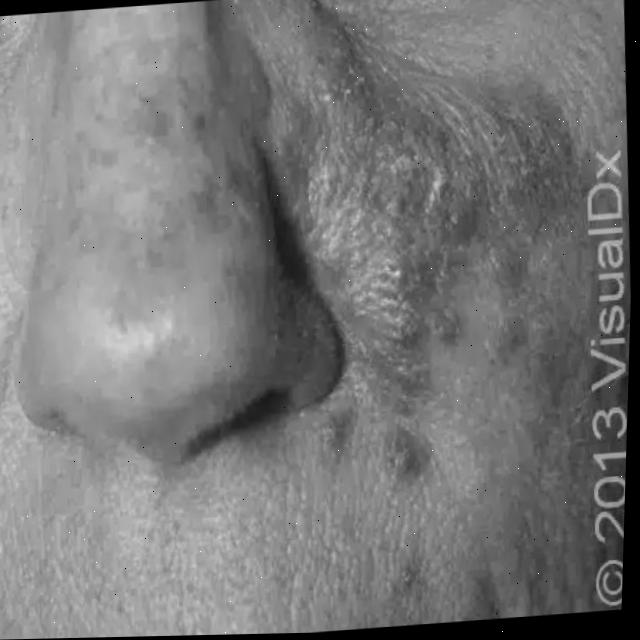Rosacea: (300, 41, 579, 388)
